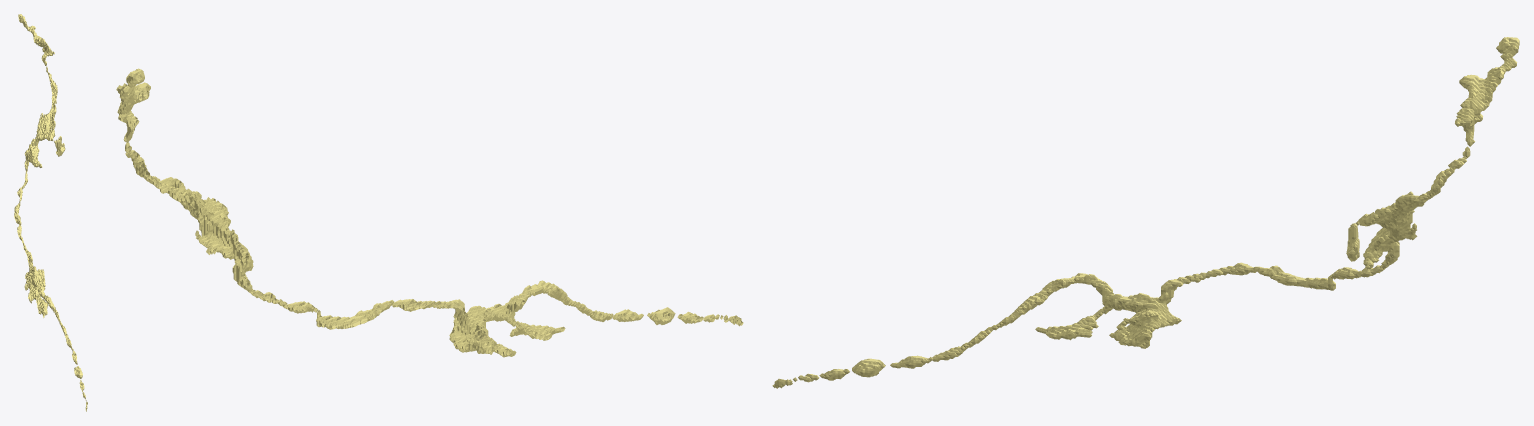
Rendered from SVV_ADAR.gltf.
3 views of the same model, side by side, from view 1: azimuth 30°, elevation 25°; view 2: azimuth 150°, elevation 25°; view 3: azimuth 270°, elevation 25° (orthographic). The views are drawn at different scales.
Parts seen in each view (by area): view 1: ADAR; view 2: ADAR; view 3: ADAR.
Part boxes in pixels (<box>): ADAR: <box>14,14,87,411</box>; ADAR: <box>116,68,743,357</box>; ADAR: <box>772,37,1519,388</box>.
Size of the model in its own units: 84718 by 135241 by 196619.
